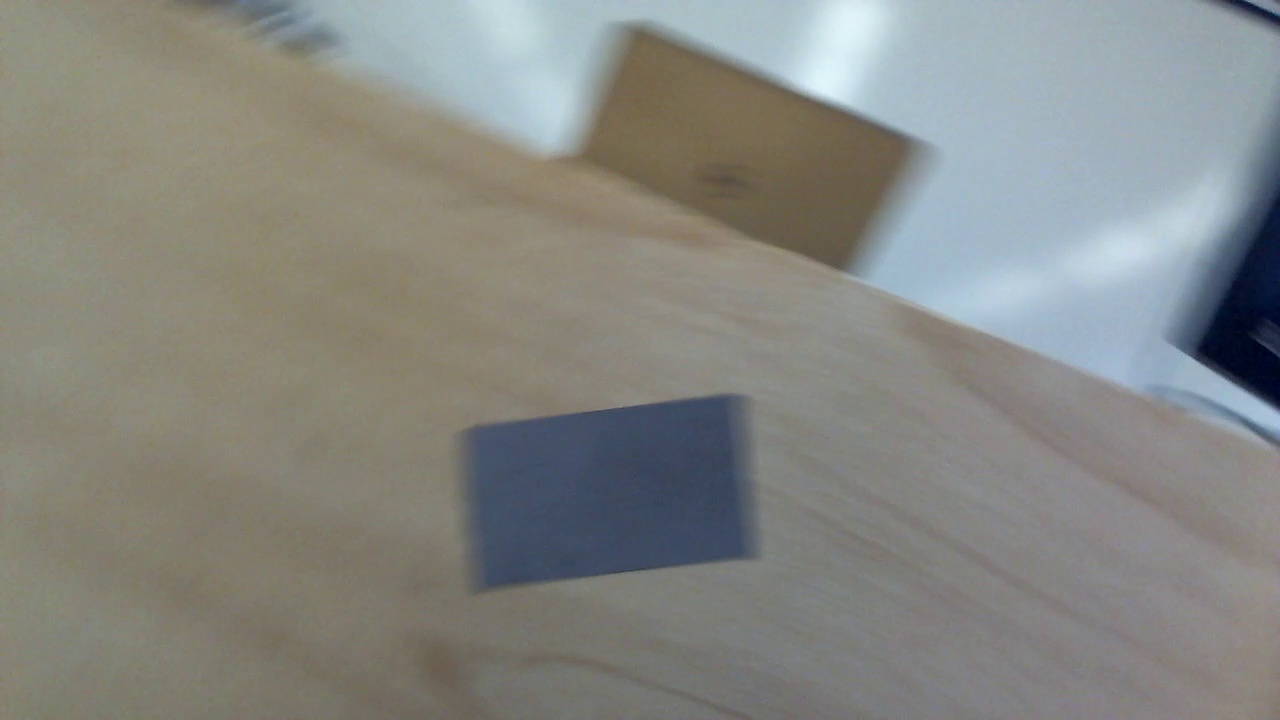Tape: (453, 394, 764, 591)
